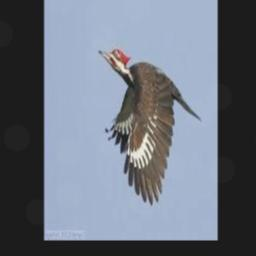Woodpecker: (98, 47, 201, 205)
